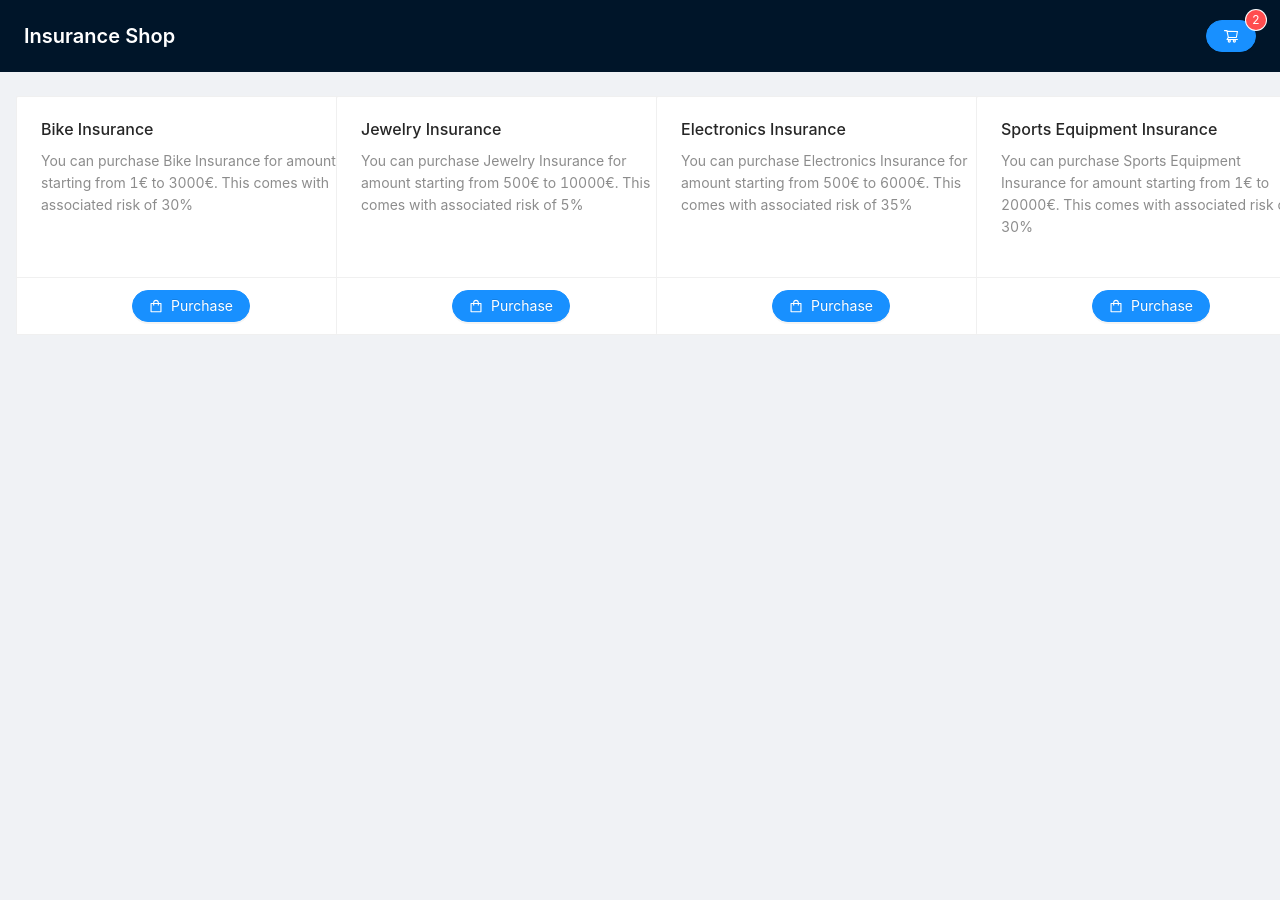
Scenario: Cart View Tests › Check if Cart is not visible after clicking outside
This screenshot has width=1280, height=900.
Click the button with class "App__pageheader_btn". click: (1231, 36)
box: [1206,20,1256,52]
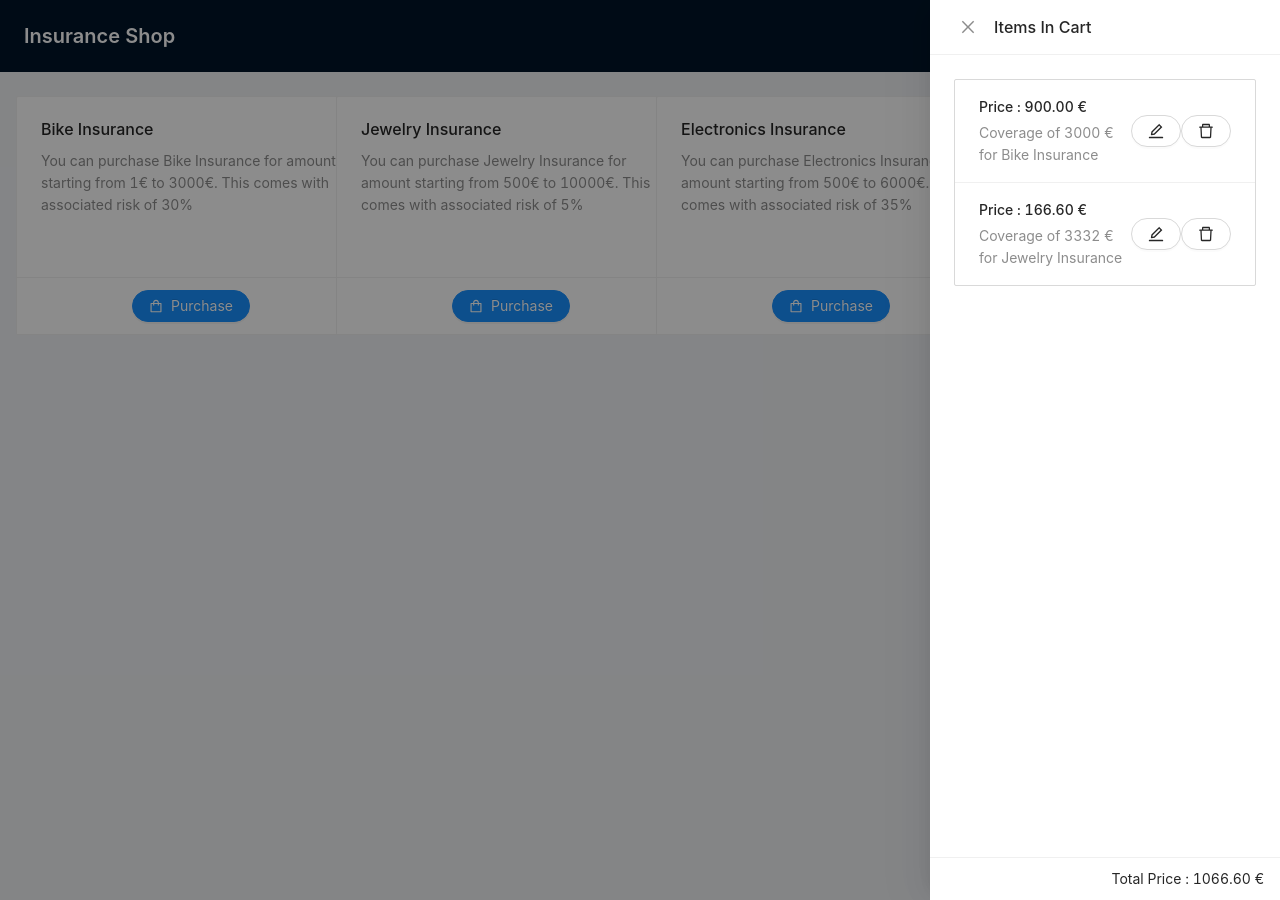
Click the element that starts with "Insurance Shop". click: (640, 450)
box: [0,0,1279,899]
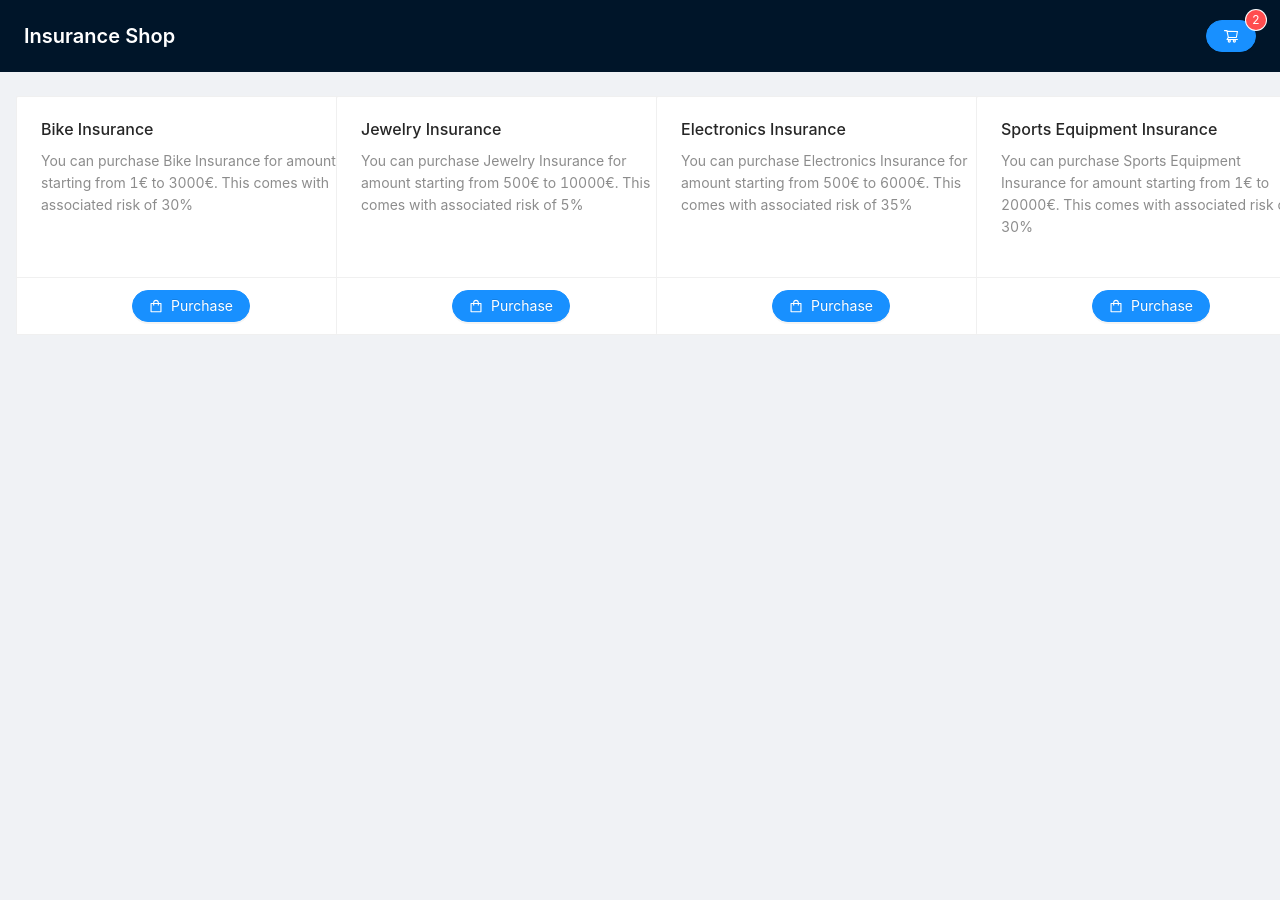
Expected: the element with class "CartView" is gone
